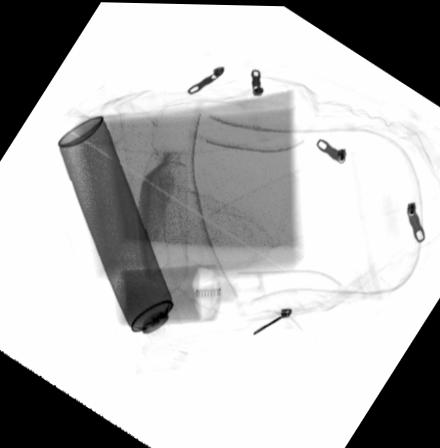Sprayer: (57, 115, 189, 362)
